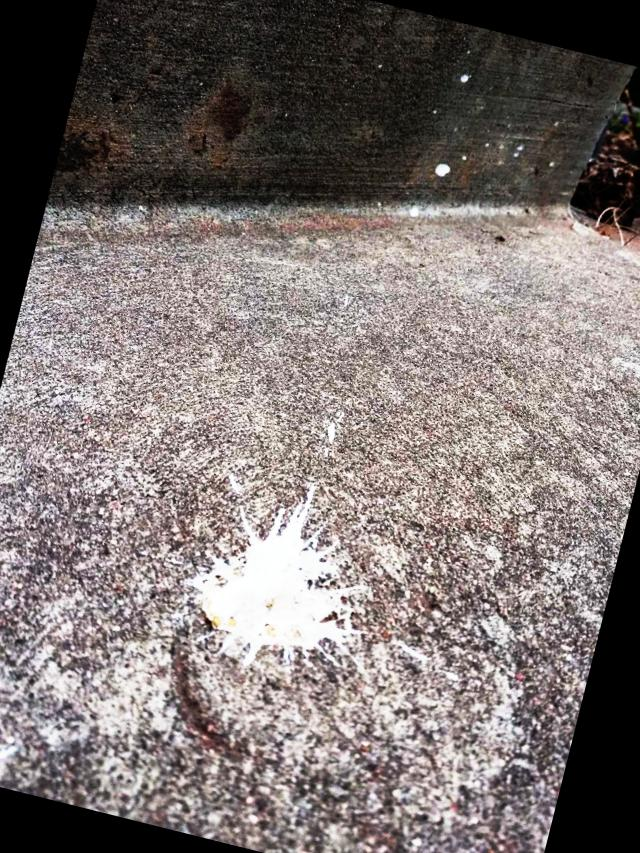Bird Poop: (190, 484, 363, 664), (435, 162, 450, 175), (329, 422, 336, 441), (461, 74, 469, 81)
